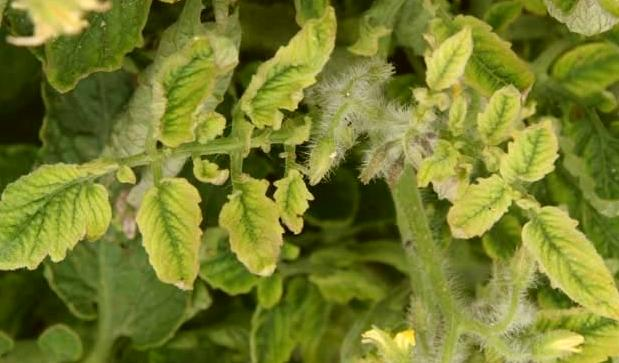Tomato leaf yellow virus: (0, 151, 121, 284), (237, 0, 343, 131), (522, 180, 619, 321), (146, 12, 230, 154), (145, 173, 202, 297), (506, 81, 572, 187), (442, 163, 517, 255), (224, 185, 275, 295), (418, 13, 483, 88)
